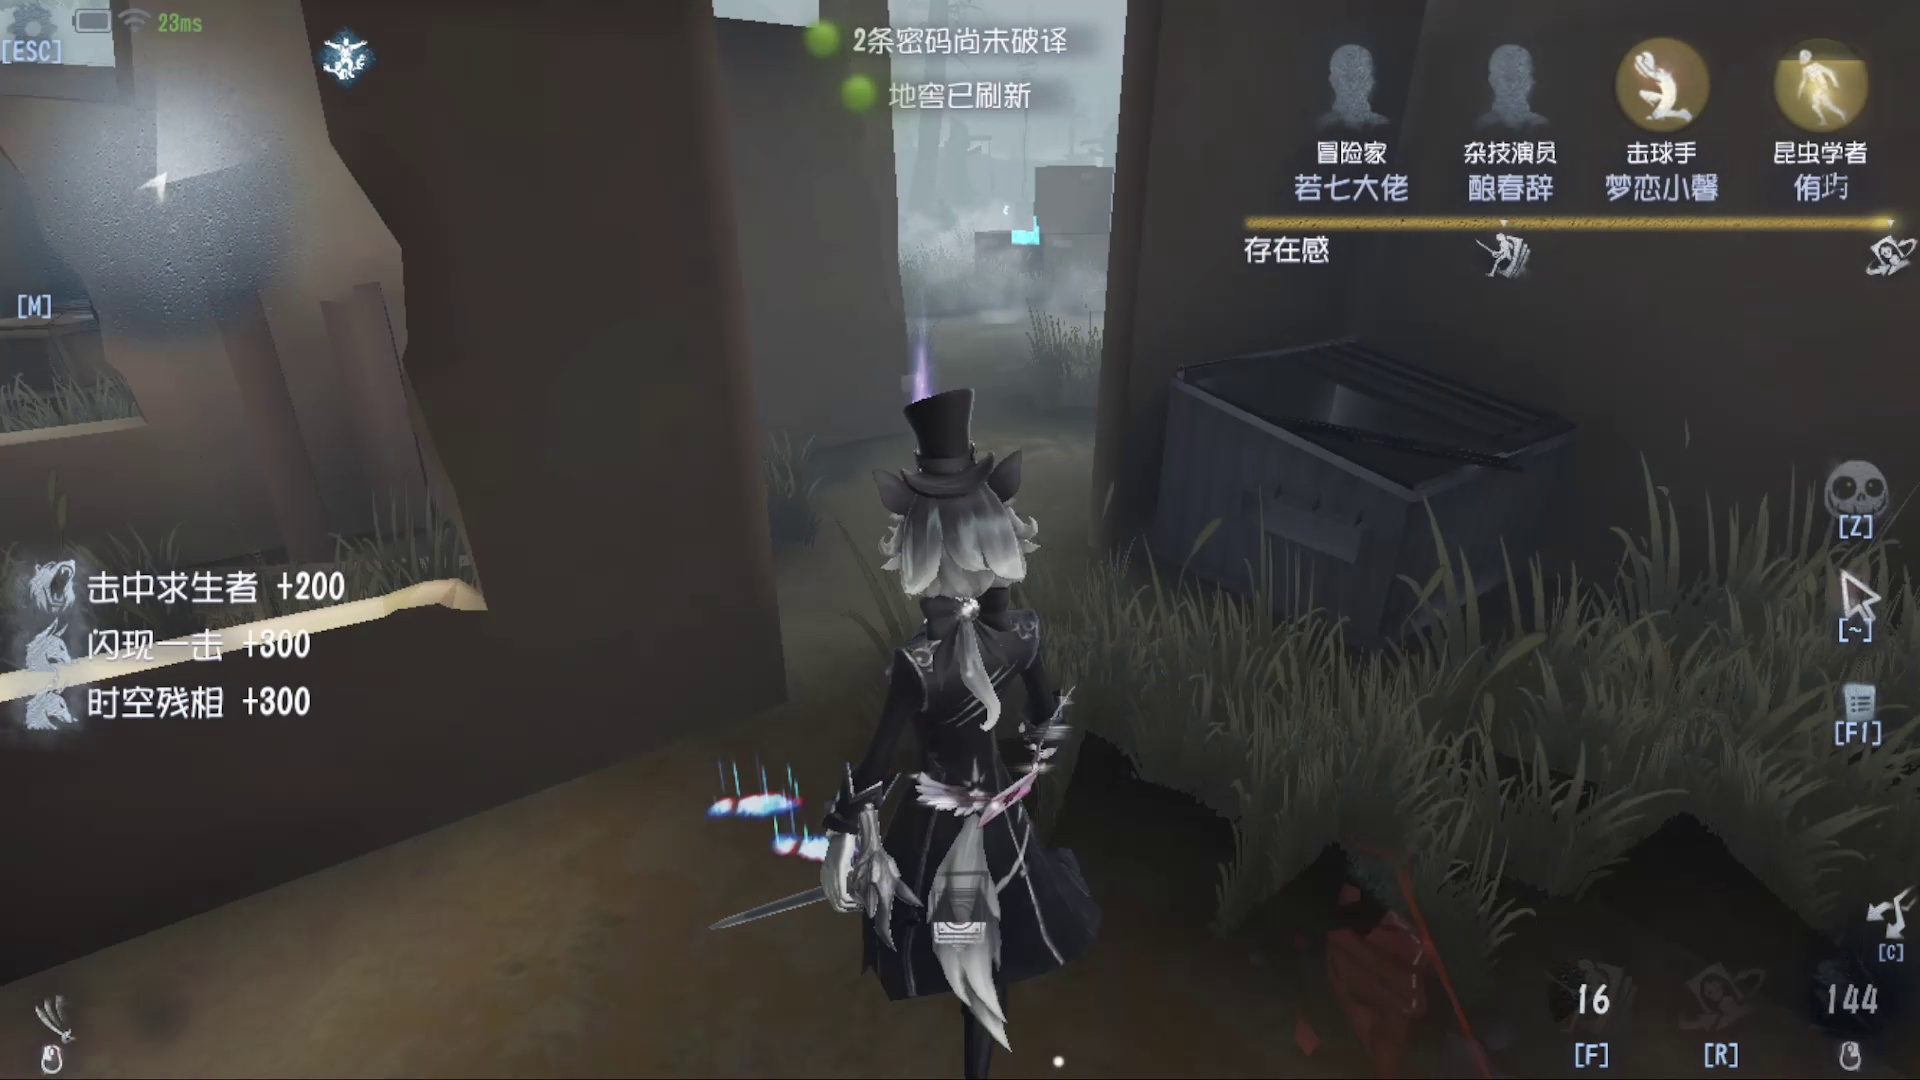密码机: (1021, 95, 1076, 276)
